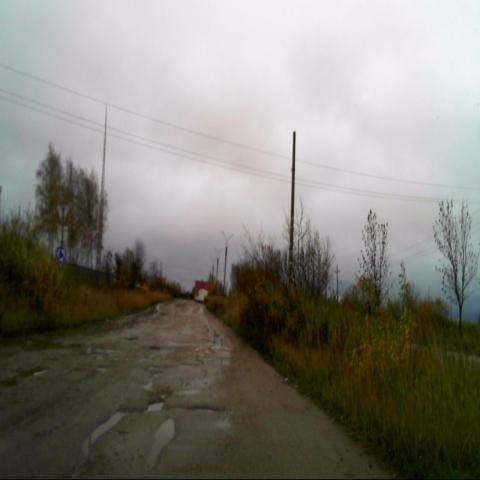4_3: (55, 244, 67, 266)
